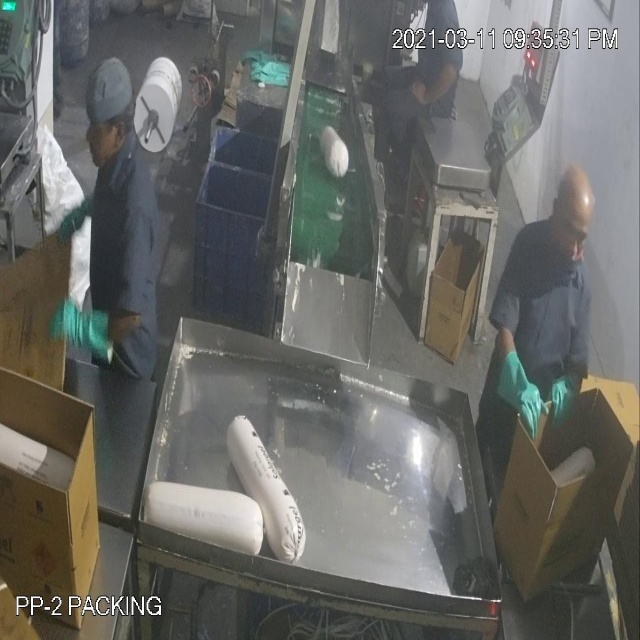Guantes: (492, 334, 548, 447), (52, 292, 114, 377), (542, 367, 581, 446)
Sin_guantes: (410, 62, 464, 112)
